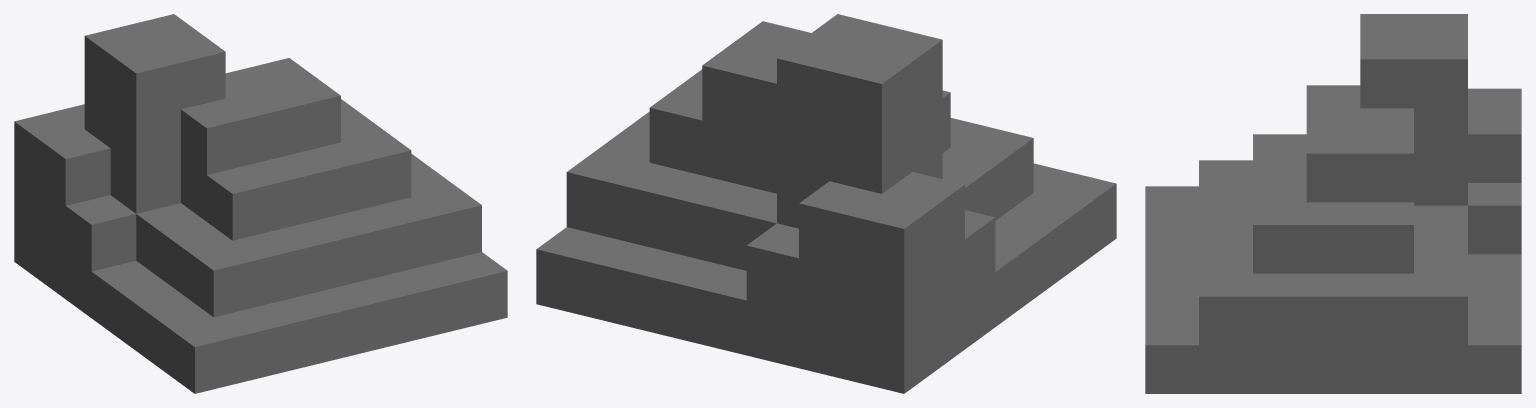
Rendered from Rock.gltf.
3 views of the same model, side by side, from view 1: azimuth 30°, elevation 25°; view 2: azimuth 150°, elevation 25°; view 3: azimuth 270°, elevation 25° (orthographic). The views are drawn at different scales.
Parts seen in each view (by area): view 1: Rock; view 2: Rock; view 3: Rock.
Part boxes in pixels (box(x1,y1,x2,y2)): Rock: box(14, 14, 507, 393); Rock: box(536, 14, 1116, 393); Rock: box(1145, 14, 1521, 393).
Bounding box in the file's own units: 0.7 × 0.5 × 0.7.
Materials: 1 (1 with a texture image).
